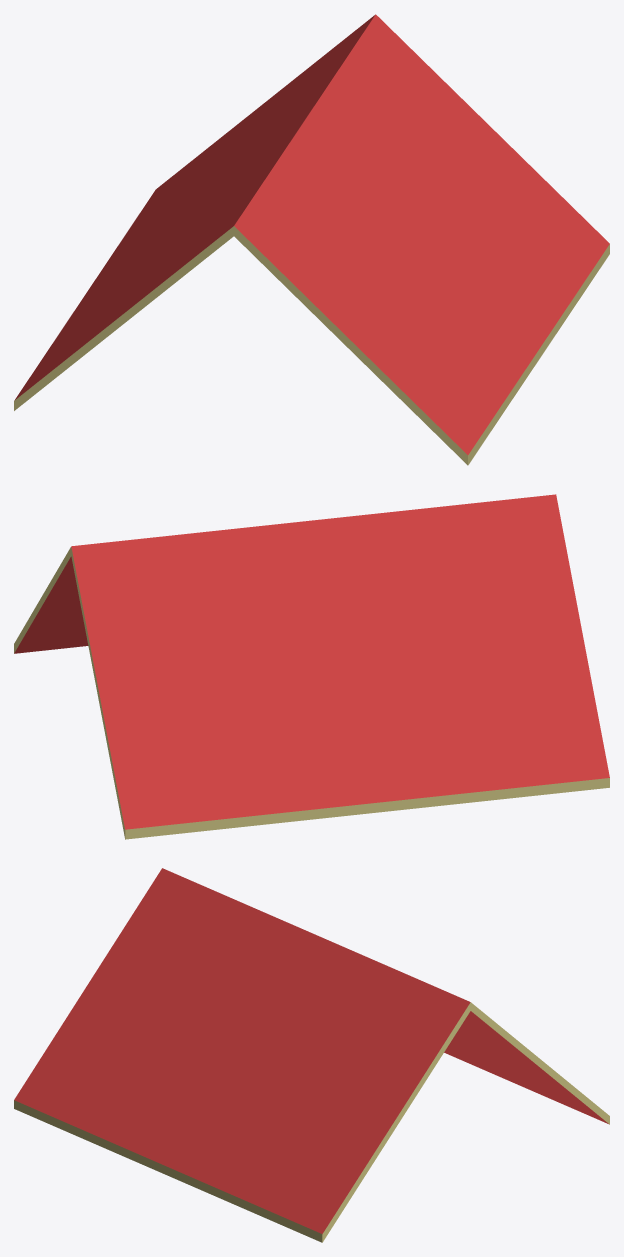
3 views of the same model, one above another, from view 1: azimuth 30°, elevation 25°; view 2: azimuth 150°, elevation 25°; view 3: azimuth 270°, elevation 25° (orthographic). The views are drawn at different scales.
Size of the model in its own units: 6.2 by 6.19 by 2.06.
